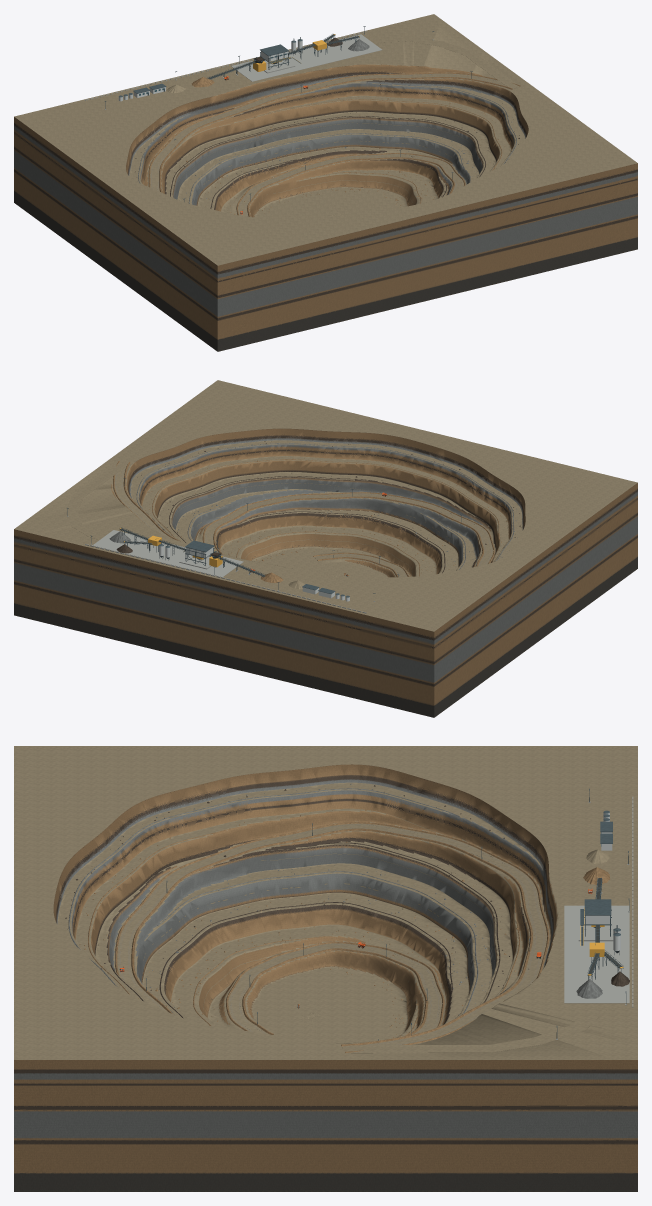
File: quarry-v3.glb
The picture shows the model from 3 angles, top to bottom: view 1: azimuth 30°, elevation 25°; view 2: azimuth 150°, elevation 25°; view 3: azimuth 270°, elevation 25°; orthographic projection. The views are drawn at different scales.
Visible parts, largest first — view 1: GEO_001 / solid terraced ground, ROAD_001 / continuous spiral haul ramp, SITE_001 / yard and service infrastructure, ROAD_002 / outer earth safety windrow, PLANT_002 / crusher cladding and machinery, ROAD_003 / inner earth safety windrow, ROAD_004 / crusher access, STOCK_001 / crushed aggregate stockpiles; view 2: GEO_001 / solid terraced ground, ROAD_001 / continuous spiral haul ramp, SITE_001 / yard and service infrastructure, PLANT_002 / crusher cladding and machinery, ROAD_002 / outer earth safety windrow, ROAD_004 / crusher access, ROAD_003 / inner earth safety windrow, STOCK_001 / crushed aggregate stockpiles, BERM_06_01 / catch bench rubble; view 3: GEO_001 / solid terraced ground, ROAD_001 / continuous spiral haul ramp, SITE_001 / yard and service infrastructure, ROAD_002 / outer earth safety windrow, ROAD_004 / crusher access, ROAD_003 / inner earth safety windrow, PLANT_002 / crusher cladding and machinery, STOCK_001 / crushed aggregate stockpiles, GEO_002 / bench talus and blasted fragments, BERM_06_01 / catch bench rubble, BERM_03_00 / catch bench rubble.
Boxes of the visible parts, x1,y1,x2,y2 form: GEO_001 / solid terraced ground: (14, 14, 637, 351); ROAD_001 / continuous spiral haul ramp: (150, 73, 515, 216); SITE_001 / yard and service infrastructure: (222, 34, 382, 81); ROAD_002 / outer earth safety windrow: (159, 77, 512, 216); PLANT_002 / crusher cladding and machinery: (118, 37, 326, 101); ROAD_003 / inner earth safety windrow: (148, 72, 520, 215); ROAD_004 / crusher access: (369, 36, 520, 88); STOCK_001 / crushed aggregate stockpiles: (166, 37, 369, 93); GEO_001 / solid terraced ground: (14, 380, 637, 717); ROAD_001 / continuous spiral haul ramp: (114, 462, 493, 577); SITE_001 / yard and service infrastructure: (92, 530, 250, 577); PLANT_002 / crusher cladding and machinery: (148, 535, 349, 601); ROAD_002 / outer earth safety windrow: (123, 462, 483, 577); ROAD_004 / crusher access: (66, 461, 128, 539); ROAD_003 / inner earth safety windrow: (113, 461, 494, 576); STOCK_001 / crushed aggregate stockpiles: (109, 531, 305, 589); BERM_06_01 / catch bench rubble: (156, 443, 514, 560); GEO_001 / solid terraced ground: (14, 746, 637, 1191); ROAD_001 / continuous spiral haul ramp: (117, 823, 546, 1048); SITE_001 / yard and service infrastructure: (564, 892, 629, 1003); ROAD_002 / outer earth safety windrow: (131, 828, 532, 1046); ROAD_004 / crusher access: (343, 1003, 606, 1053); ROAD_003 / inner earth safety windrow: (115, 822, 549, 1053); PLANT_002 / crusher cladding and machinery: (584, 810, 620, 956); STOCK_001 / crushed aggregate stockpiles: (576, 849, 629, 998); GEO_002 / bench talus and blasted fragments: (65, 783, 534, 1037); BERM_06_01 / catch bench rubble: (68, 788, 459, 986); BERM_03_00 / catch bench rubble: (157, 871, 478, 1014).
Bounding box in the file's own units: 1000 × 233 × 840.
Materials: 45 (6 with a texture image).
